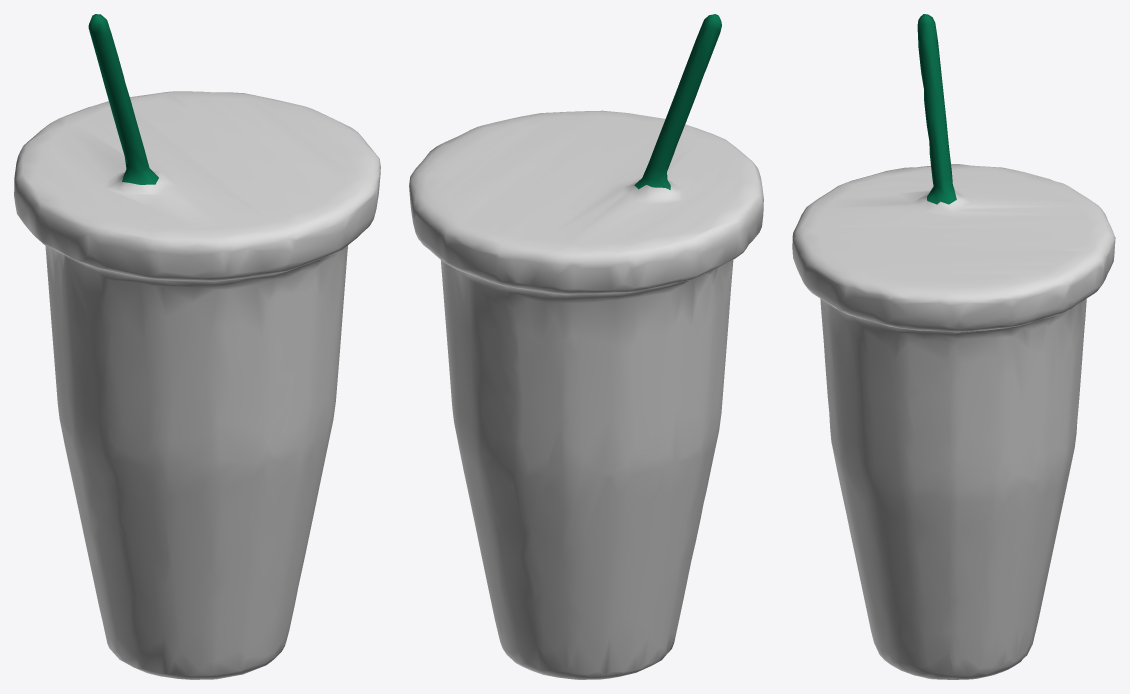
File: STARBUCK.fbx
3 views of the same model, side by side, from view 1: azimuth 30°, elevation 25°; view 2: azimuth 150°, elevation 25°; view 3: azimuth 270°, elevation 25° (orthographic). The views are drawn at different scales.
Visible parts, largest first — view 1: STARFUCK; view 2: STARFUCK; view 3: STARFUCK.
Part boxes in pixels (box(x1,y1,x2,y2)): STARFUCK: box(14, 14, 380, 679); STARFUCK: box(409, 14, 763, 679); STARFUCK: box(792, 14, 1115, 679).
Bounding box in the file's own units: 90.01 × 180 × 90.02.
